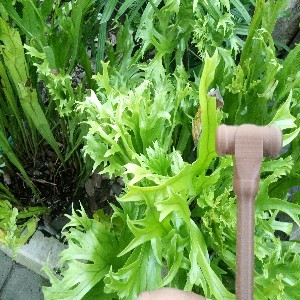palu: (215, 122, 283, 300)
